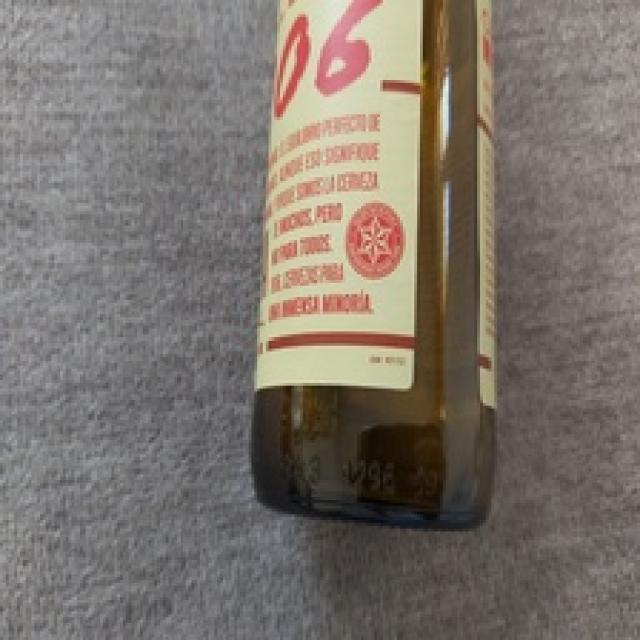Glass: (246, 0, 497, 529)
